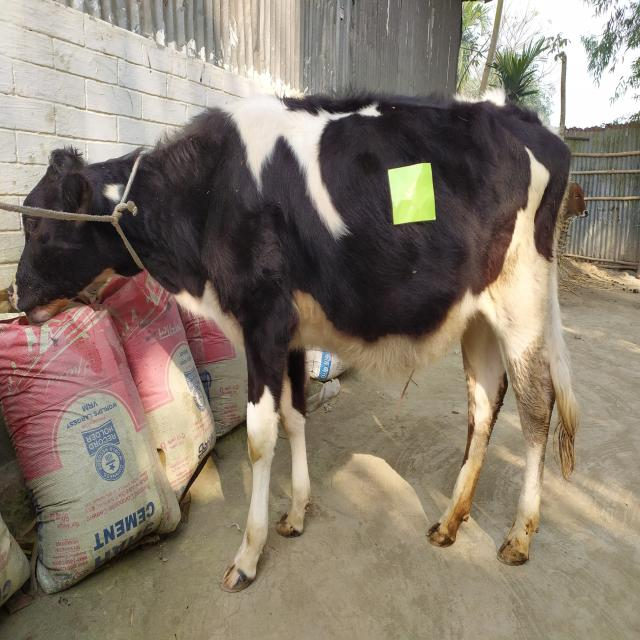badan_sapi: (213, 98, 550, 379)
sapi: (5, 84, 610, 596)
